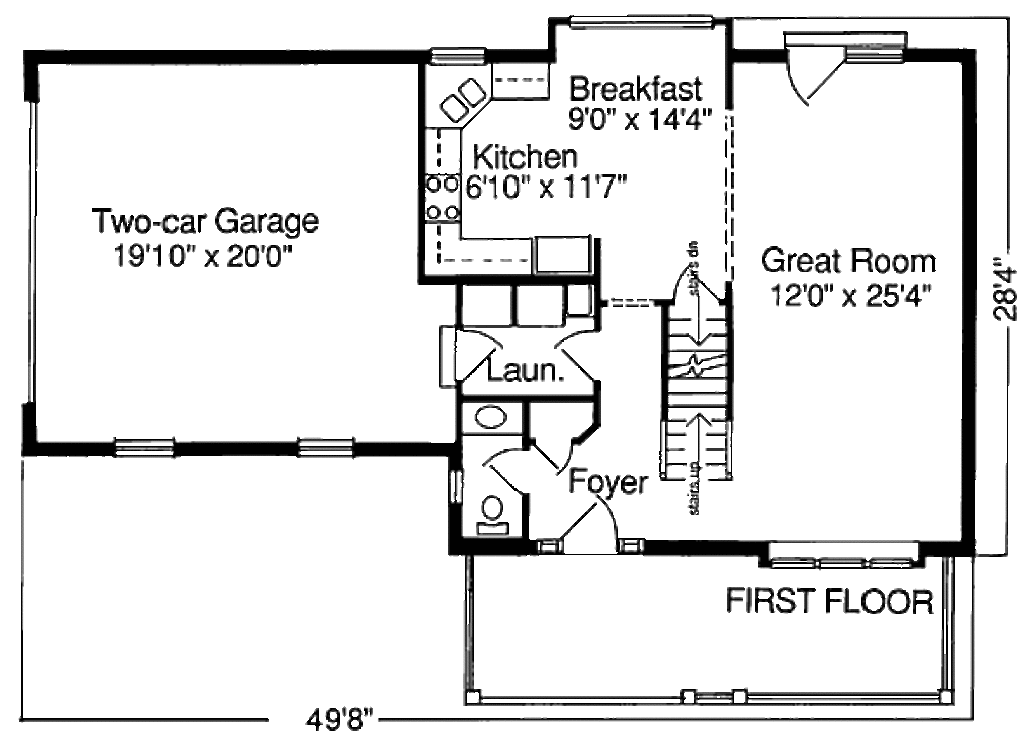door: (442, 322, 501, 384), (781, 50, 848, 103), (559, 499, 619, 555), (477, 443, 531, 497), (551, 326, 597, 385), (533, 434, 571, 475)
large_sink: (468, 491, 516, 542)
small_sink: (457, 394, 527, 439)
stairs: (662, 299, 735, 483)
twin_sink: (437, 74, 491, 123)
windows: (750, 541, 920, 571), (565, 11, 712, 37), (103, 430, 183, 457), (427, 46, 487, 70), (296, 435, 353, 460)
